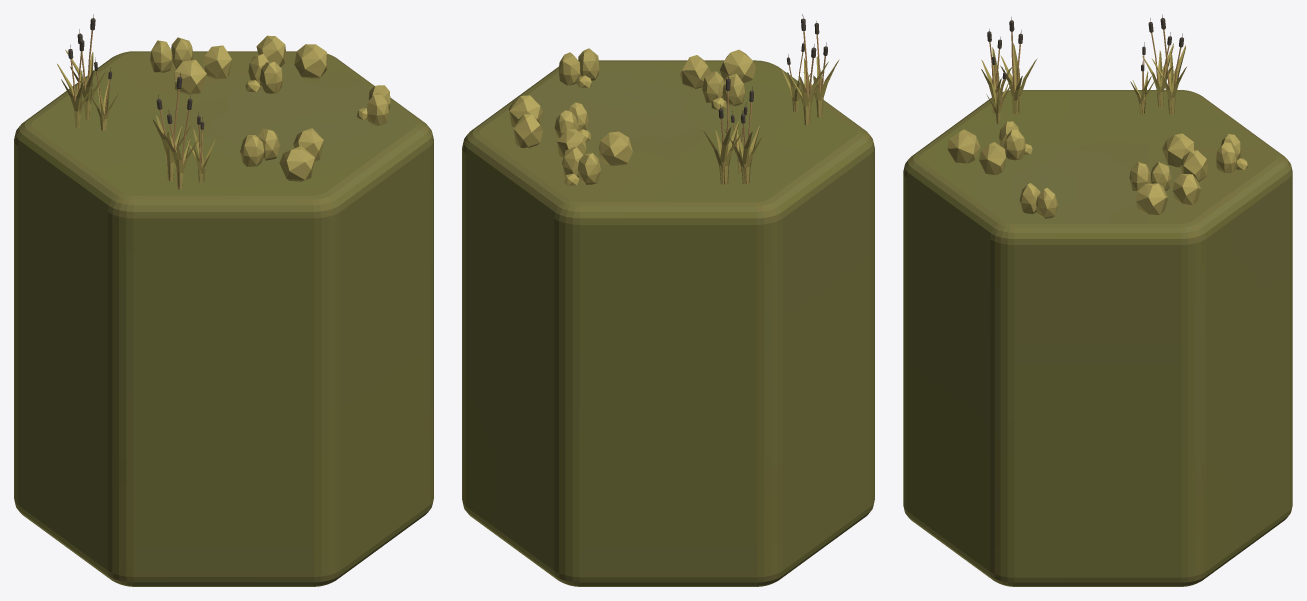
File: Hex-marais.glb
The picture shows the model from 3 angles, left to right: view 1: azimuth 30°, elevation 25°; view 2: azimuth 150°, elevation 25°; view 3: azimuth 270°, elevation 25°; orthographic projection. The views are drawn at different scales.
Visible parts, largest first — view 1: Cylinder, Plane.089_Material.001_0, Plane.091_Material.001_0, Icosphere.013_Material.001_0, Icosphere.021_Material.001_0, Icosphere.024_Material.001_0, Icosphere.012_Material.001_0, Icosphere.020_Material.001_0, Icosphere.025_Material.001_0, Icosphere.023_Material.001_0, Icosphere.022_Material.001_0, Icosphere.010_Material.001_0 (+1 smaller); view 2: Cylinder, Plane.089_Material.001_0, Plane.091_Material.001_0, Icosphere.025_Material.001_0, Icosphere.021_Material.001_0, Icosphere.024_Material.001_0, Icosphere.023_Material.001_0, Icosphere.013_Material.001_0, Icosphere.020_Material.001_0, Icosphere.010_Material.001_0, Icosphere.019_Material.001_0, Icosphere.012_Material.001_0 (+1 smaller); view 3: Cylinder, Plane.089_Material.001_0, Plane.091_Material.001_0, Icosphere.025_Material.001_0, Icosphere.013_Material.001_0, Icosphere.024_Material.001_0, Icosphere.020_Material.001_0, Icosphere.021_Material.001_0, Icosphere.012_Material.001_0, Icosphere.023_Material.001_0, Icosphere.010_Material.001_0, Icosphere.019_Material.001_0 (+1 smaller).
Part boxes in pixels (box(x1,y1,x2,y2)): Cylinder: box(14, 51, 433, 586); Plane.089_Material.001_0: box(57, 14, 118, 130); Plane.091_Material.001_0: box(153, 72, 216, 189); Icosphere.013_Material.001_0: box(245, 53, 282, 93); Icosphere.021_Material.001_0: box(240, 128, 279, 166); Icosphere.024_Material.001_0: box(150, 37, 193, 72); Icosphere.012_Material.001_0: box(294, 44, 327, 78); Icosphere.020_Material.001_0: box(279, 146, 314, 181); Icosphere.025_Material.001_0: box(357, 85, 390, 125); Icosphere.023_Material.001_0: box(174, 59, 206, 94); Icosphere.022_Material.001_0: box(204, 45, 231, 79); Icosphere.010_Material.001_0: box(256, 35, 285, 66); Cylinder: box(462, 60, 874, 586); Plane.089_Material.001_0: box(703, 74, 762, 184); Plane.091_Material.001_0: box(781, 14, 839, 125); Icosphere.025_Material.001_0: box(559, 48, 599, 88); Icosphere.021_Material.001_0: box(702, 71, 744, 110); Icosphere.024_Material.001_0: box(562, 147, 600, 185); Icosphere.023_Material.001_0: box(598, 131, 632, 165); Icosphere.013_Material.001_0: box(554, 102, 590, 141); Icosphere.020_Material.001_0: box(720, 49, 755, 83); Icosphere.010_Material.001_0: box(513, 114, 542, 148); Icosphere.019_Material.001_0: box(680, 55, 710, 89); Icosphere.012_Material.001_0: box(508, 95, 542, 127); Cylinder: box(903, 90, 1292, 586); Plane.089_Material.001_0: box(1130, 14, 1186, 115); Plane.091_Material.001_0: box(981, 17, 1037, 124); Icosphere.025_Material.001_0: box(1019, 183, 1057, 218); Icosphere.013_Material.001_0: box(1129, 162, 1171, 191); Icosphere.024_Material.001_0: box(1216, 134, 1248, 172); Icosphere.020_Material.001_0: box(947, 129, 980, 163); Icosphere.021_Material.001_0: box(999, 121, 1032, 160); Icosphere.012_Material.001_0: box(1136, 183, 1168, 214); Icosphere.023_Material.001_0: box(1162, 133, 1194, 167); Icosphere.010_Material.001_0: box(1172, 174, 1200, 204); Icosphere.019_Material.001_0: box(979, 142, 1005, 174).
Size of the model in its own units: 1.73 by 2.55 by 1.95.
2 materials, 2 textured.
